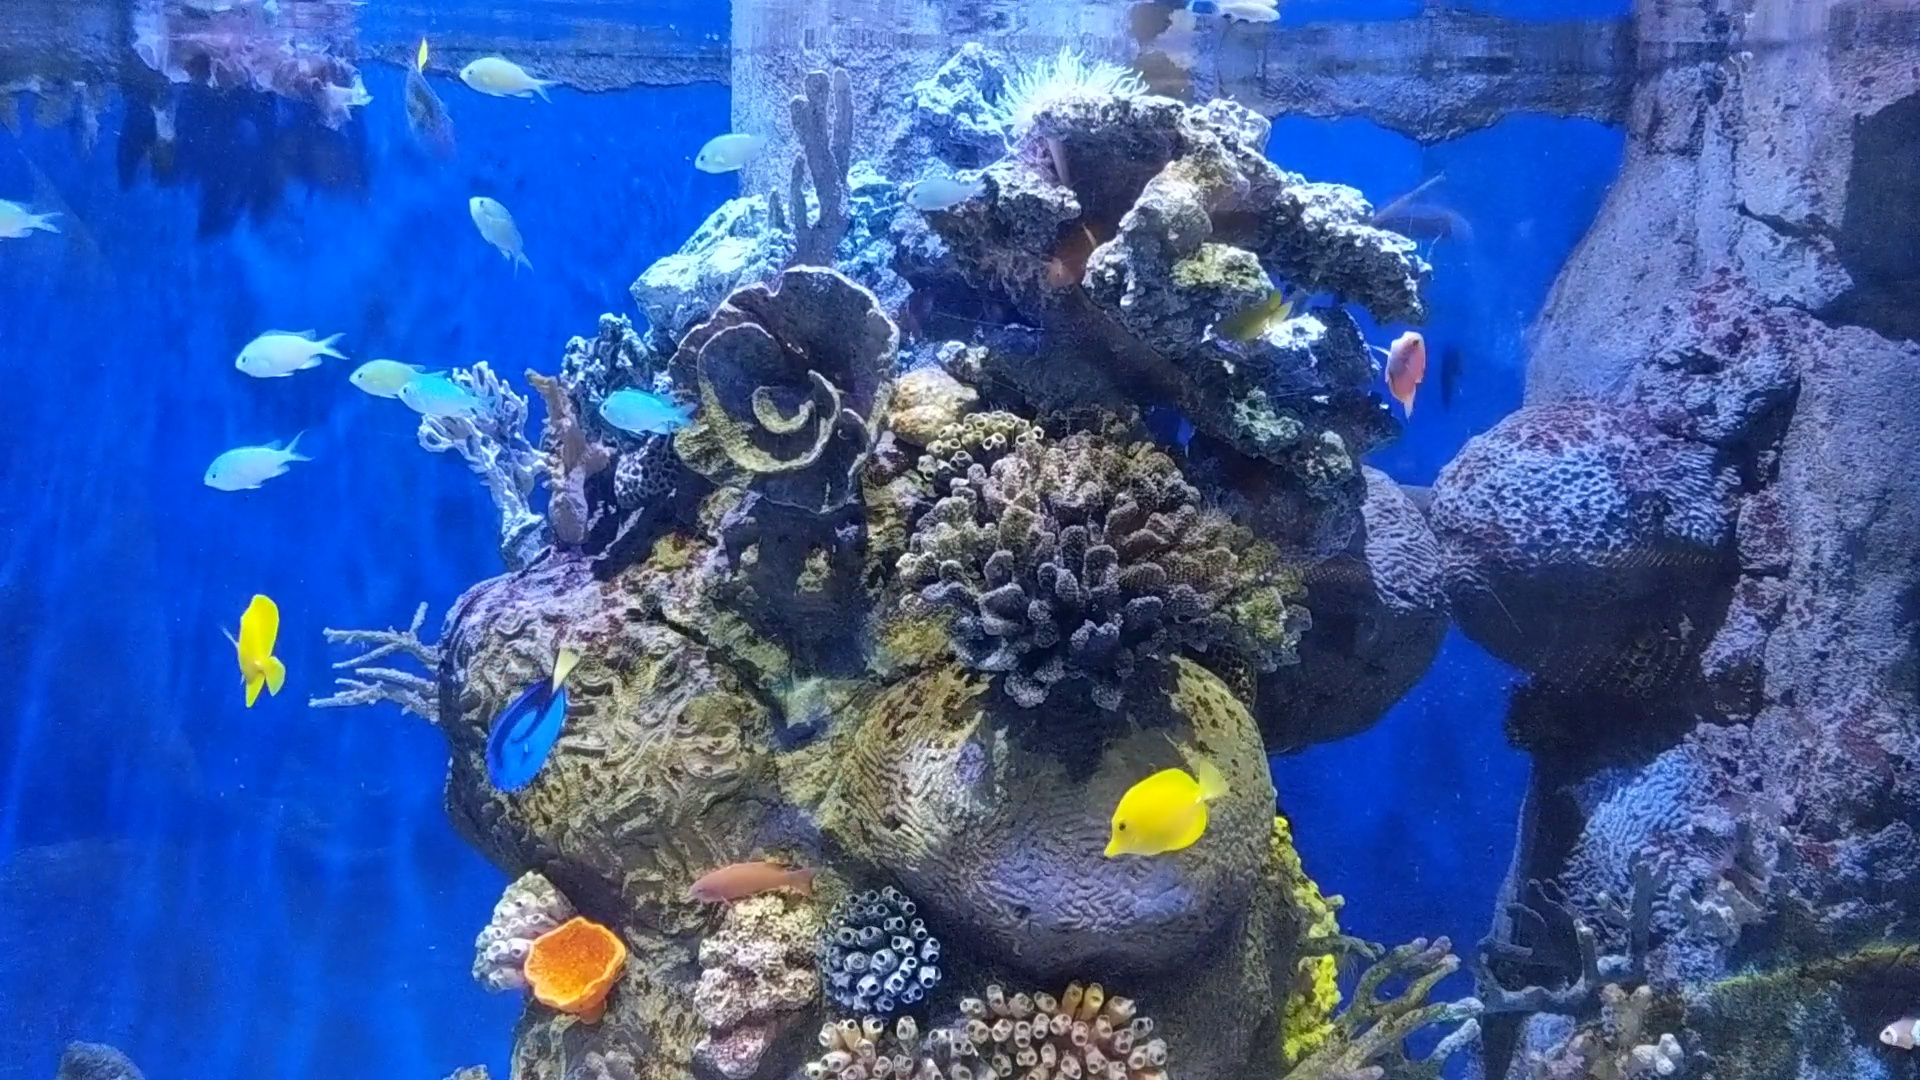blue tang surgeonfish: (462, 646, 589, 789), (390, 33, 469, 153)
damselfish: (436, 169, 554, 286), (164, 430, 313, 504), (448, 40, 574, 119), (889, 142, 1000, 223), (218, 320, 345, 388), (400, 363, 498, 448), (596, 378, 699, 444), (334, 345, 430, 402), (676, 129, 787, 177)
pink fish: (1364, 313, 1437, 436)
saddle butterfly fish: (1097, 760, 1234, 866), (218, 584, 291, 698)
